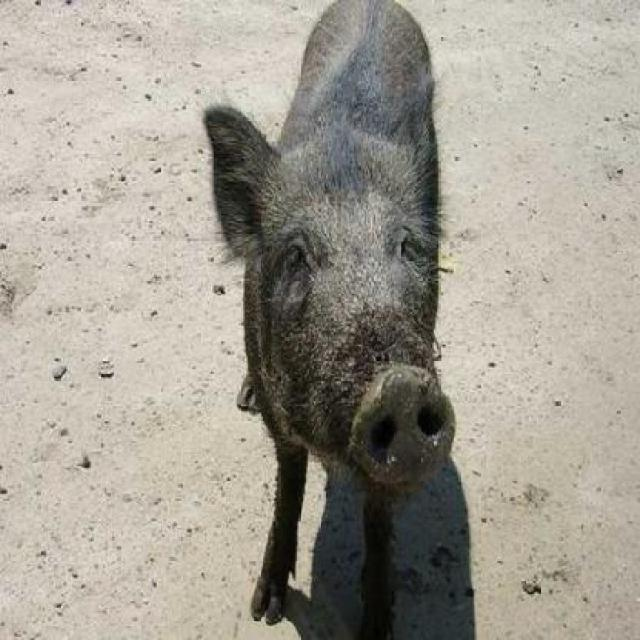pig: (172, 0, 552, 638)
